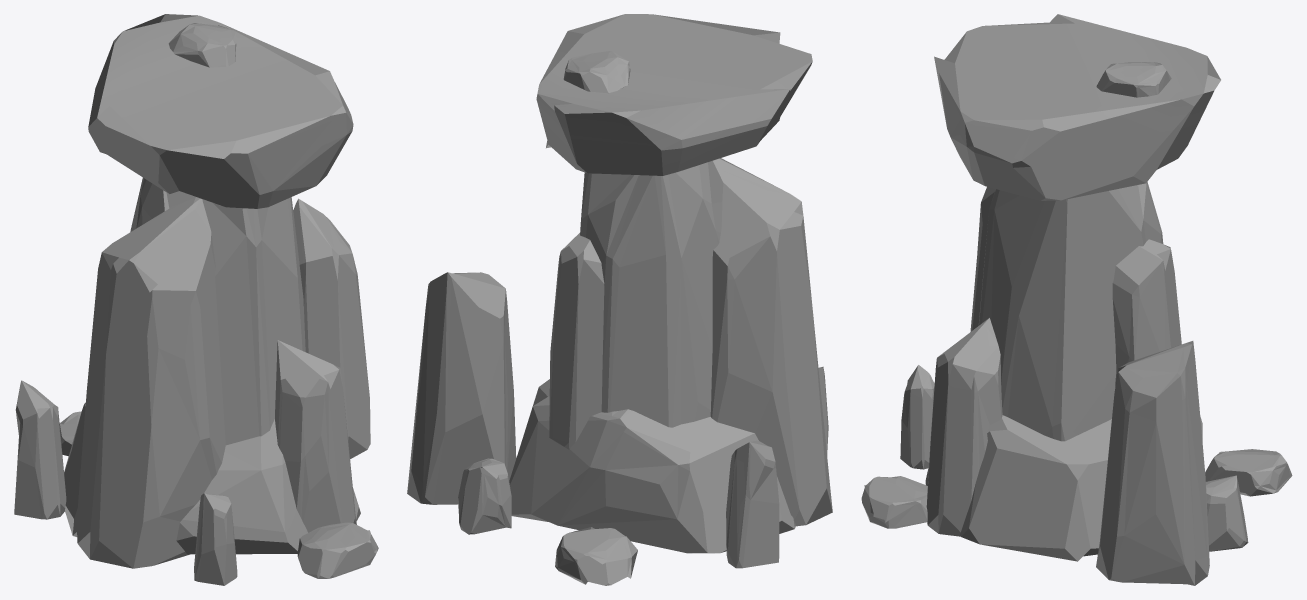
File: Rock_025.fbx
The picture shows the model from 3 angles, left to right: view 1: azimuth 30°, elevation 25°; view 2: azimuth 150°, elevation 25°; view 3: azimuth 270°, elevation 25°; orthographic projection.
Visible parts, largest first — view 1: Rock_025; view 2: Rock_025; view 3: Rock_025.
Part boxes in pixels (box(x1,y1,x2,y2)): Rock_025: box(14, 14, 378, 585); Rock_025: box(407, 14, 832, 585); Rock_025: box(861, 14, 1292, 585).
Bounding box in the file's own units: 357 × 388 × 439.
Materials: 1 (1 with a texture image).
